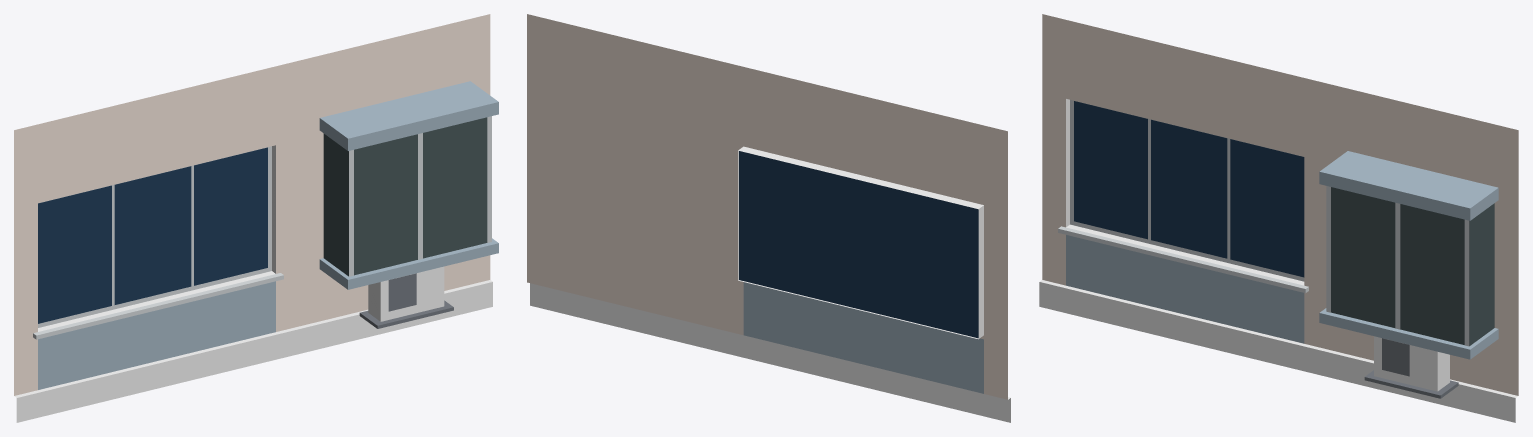
File: mid-w1.fbx
3 renders of one model, left to right at view 1: azimuth 30°, elevation 25°; view 2: azimuth 150°, elevation 25°; view 3: azimuth 330°, elevation 25°, orthographic.
Parts seen in each view (by area): view 1: a2011/300/mid-w1; view 2: a2011/300/mid-w1; view 3: a2011/300/mid-w1.
Part boxes in pixels (x1,y1,x2,y2): a2011/300/mid-w1: [14, 14, 498, 422]; a2011/300/mid-w1: [527, 14, 1010, 422]; a2011/300/mid-w1: [1039, 14, 1518, 422].
Size of the model in its own units: 6 by 3.5 by 0.74.
